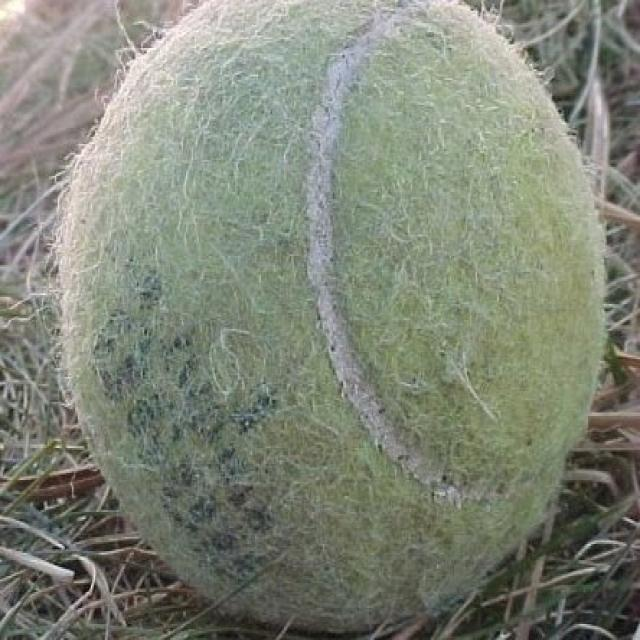Tennis Ball: (55, 0, 611, 640)
